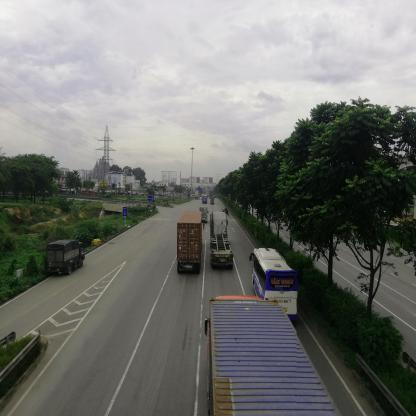bus: (260, 247, 291, 307)
car: (225, 208, 229, 216)
container: (208, 298, 298, 416), (181, 212, 203, 272), (211, 215, 229, 267)
truck: (47, 236, 86, 277), (202, 209, 209, 221)
